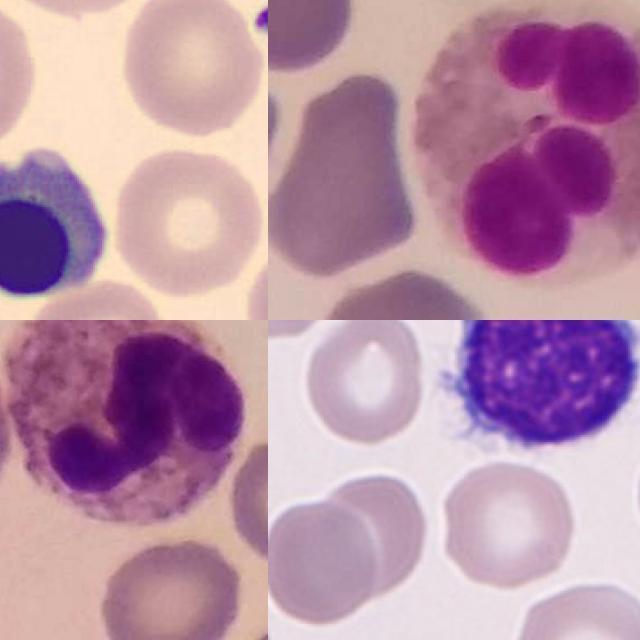Eosinophil: (414, 0, 640, 288)
Lymphocyte: (423, 320, 640, 464), (0, 136, 121, 309)
Neutrophil: (4, 320, 248, 526)
Platelets: (247, 0, 268, 39)
RBC: (107, 141, 268, 298), (114, 0, 268, 139), (438, 456, 579, 593), (301, 320, 428, 447), (268, 493, 380, 629), (506, 573, 640, 640), (20, 275, 176, 320), (0, 0, 43, 152)
